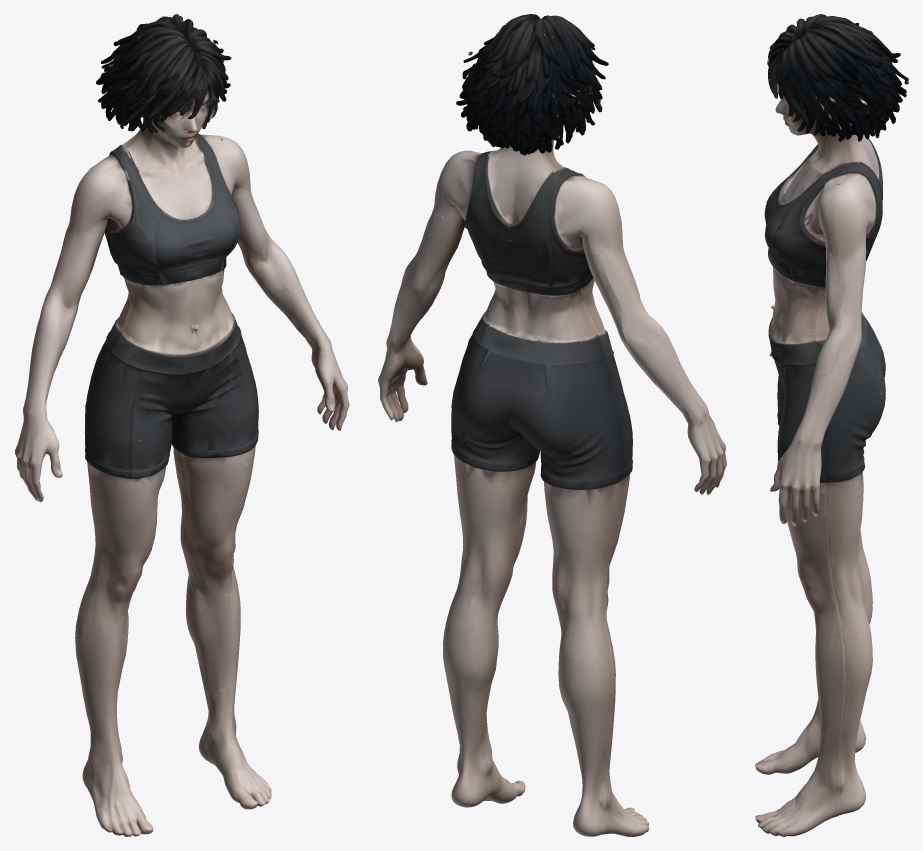
File: ain_base_candidate.glb
3 renders of one model, left to right at view 1: azimuth 30°, elevation 25°; view 2: azimuth 150°, elevation 25°; view 3: azimuth 270°, elevation 25°, orthographic. The views are drawn at different scales.
Parts seen in each view (by area): view 1: ain_base_candidate; view 2: ain_base_candidate; view 3: ain_base_candidate.
Part boxes in pixels (x1,y1,x2,y2): ain_base_candidate: (15, 14, 349, 836); ain_base_candidate: (378, 14, 726, 836); ain_base_candidate: (755, 14, 908, 836).
Size of the model in its own units: 0.7295 by 1.68 by 0.2993.
1 material, 1 textured.
